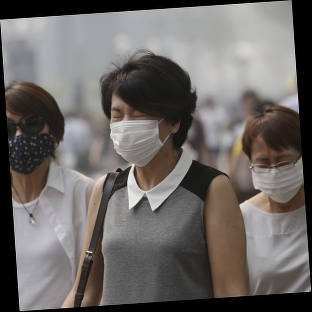with_mask: (109, 103, 172, 164), (253, 151, 304, 204), (9, 114, 52, 175)
